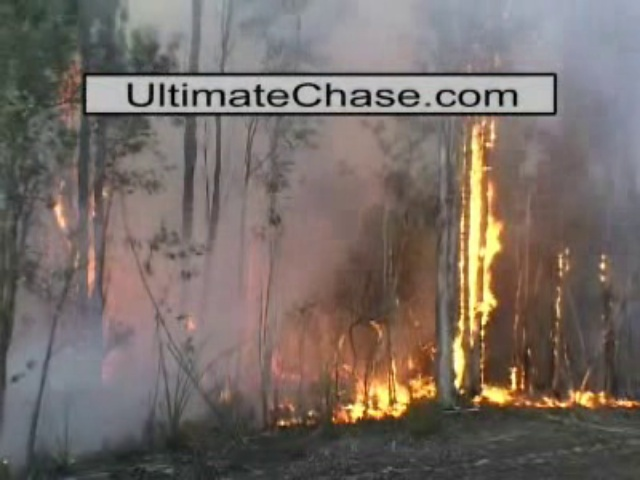fire: (453, 120, 500, 386), (337, 371, 412, 423)
